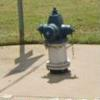a fire hydrant: (38, 6, 76, 70)
